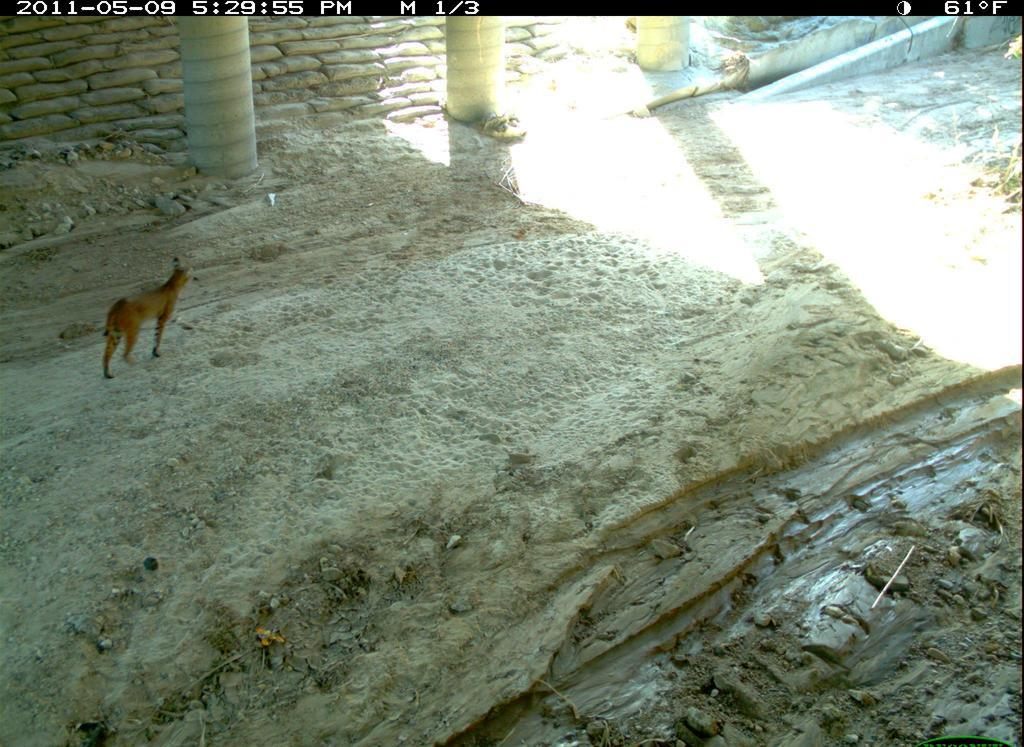bobcat: (79, 253, 200, 390)
